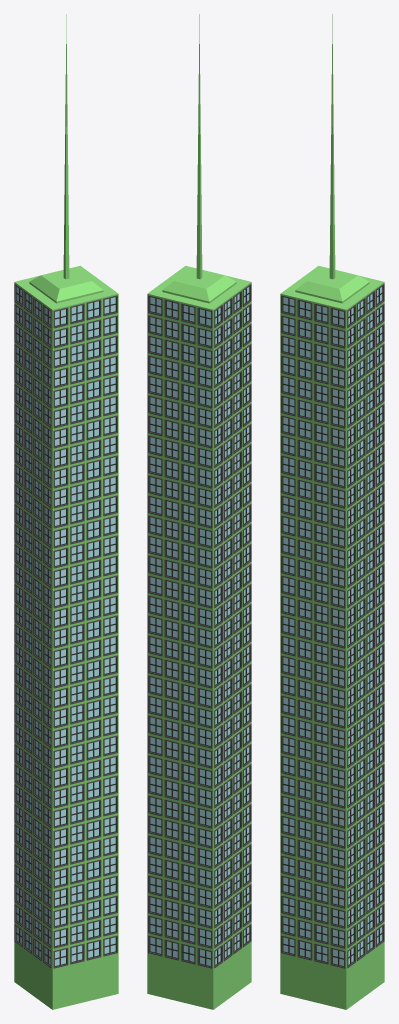
Rendered from Scraper Grn.fbx.
3 views of the same model, side by side, from view 1: azimuth 30°, elevation 25°; view 2: azimuth 150°, elevation 25°; view 3: azimuth 330°, elevation 25° (orthographic).
Parts seen in each view (by area): view 1: Cube.003; view 2: Cube.003; view 3: Cube.003.
Boxes of the visible parts, x1=… form: Cube.003: x1=14, y1=14, x2=118, y2=1009; Cube.003: x1=147, y1=14, x2=251, y2=1009; Cube.003: x1=280, y1=14, x2=384, y2=1009.
Bounding box in the file's own units: 1332 × 18371 × 1332.
